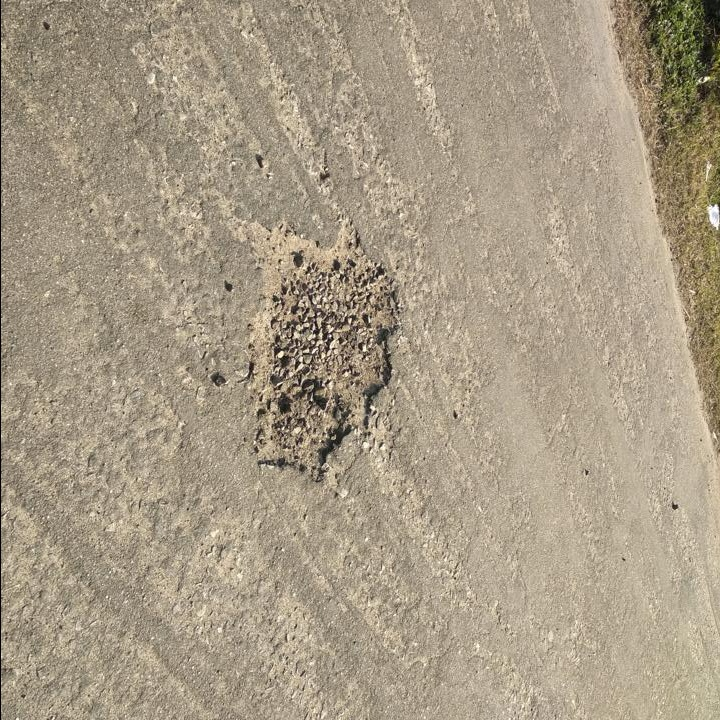pothole: (247, 213, 405, 487)
